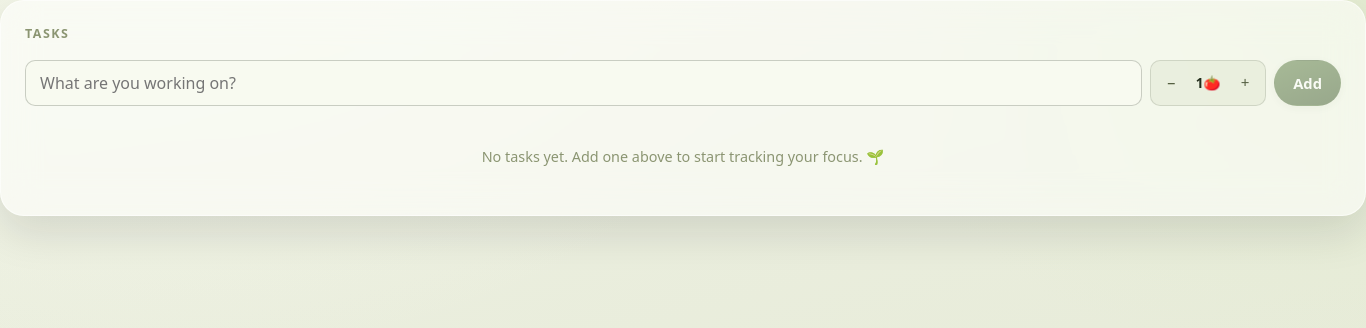
Test case: TaskList › adds a task via the form
Type "Write E2E tests" into the field named "New task title".
click(584, 83); type("Write E2E tests")  # box [25,60,1142,106]
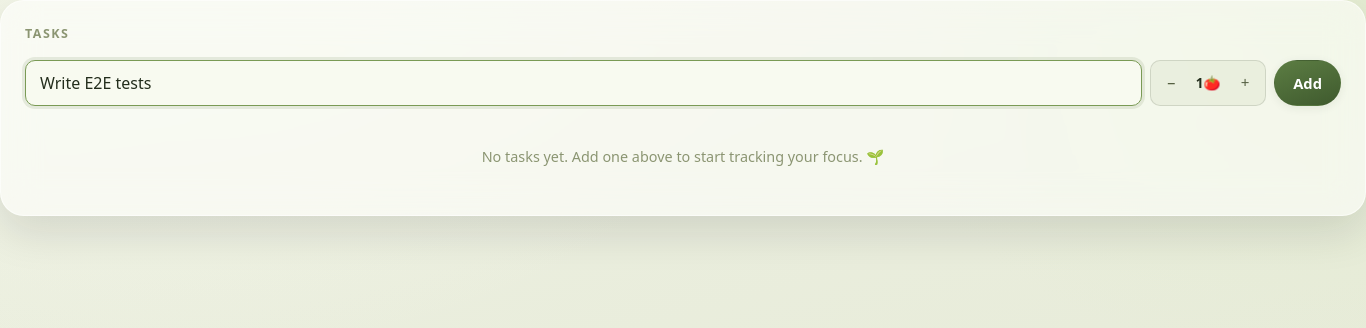
Click the button "Add".
click(1308, 83)  # box [1274,60,1341,106]
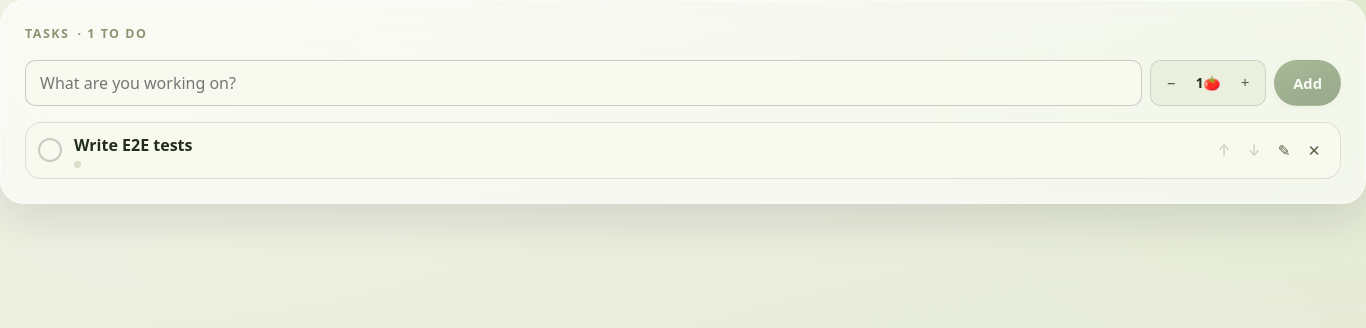
Check: the text "Write E2E tests" is shown, box [74,134,192,156]
Check: the text "No tasks yet" is gone
